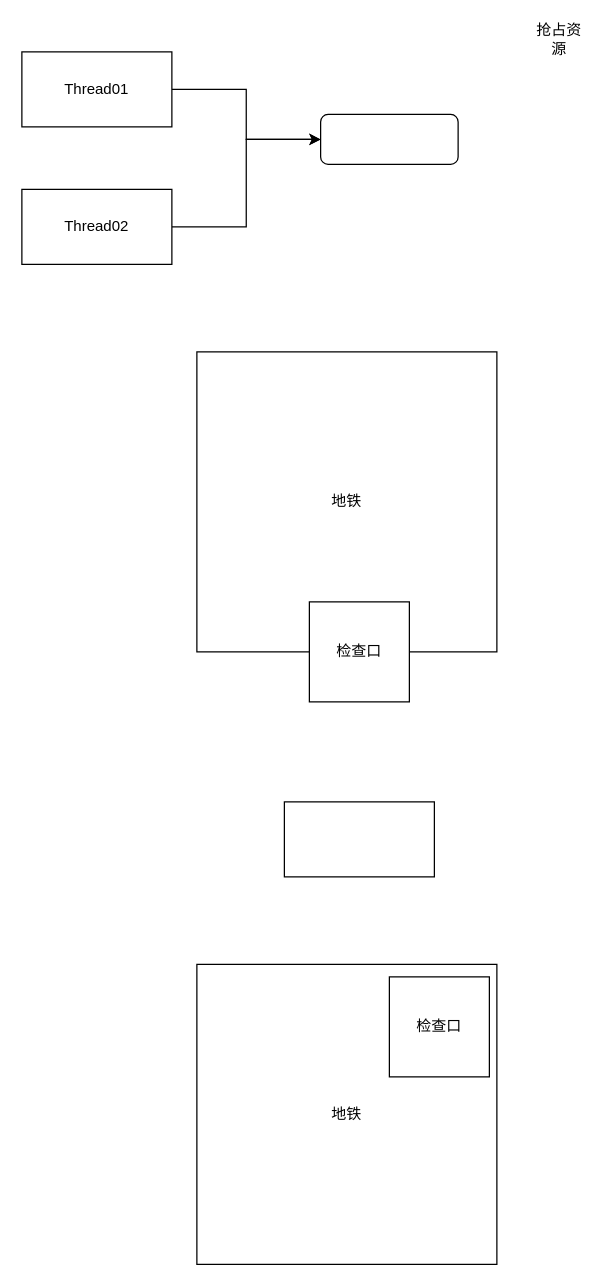
This 606x1286 diagram has some shape labels left out. The centre of each missing label's shape, as x and y in pixels:
"优化" goes at (x=358, y=839).
"单例" goes at (x=388, y=138).
